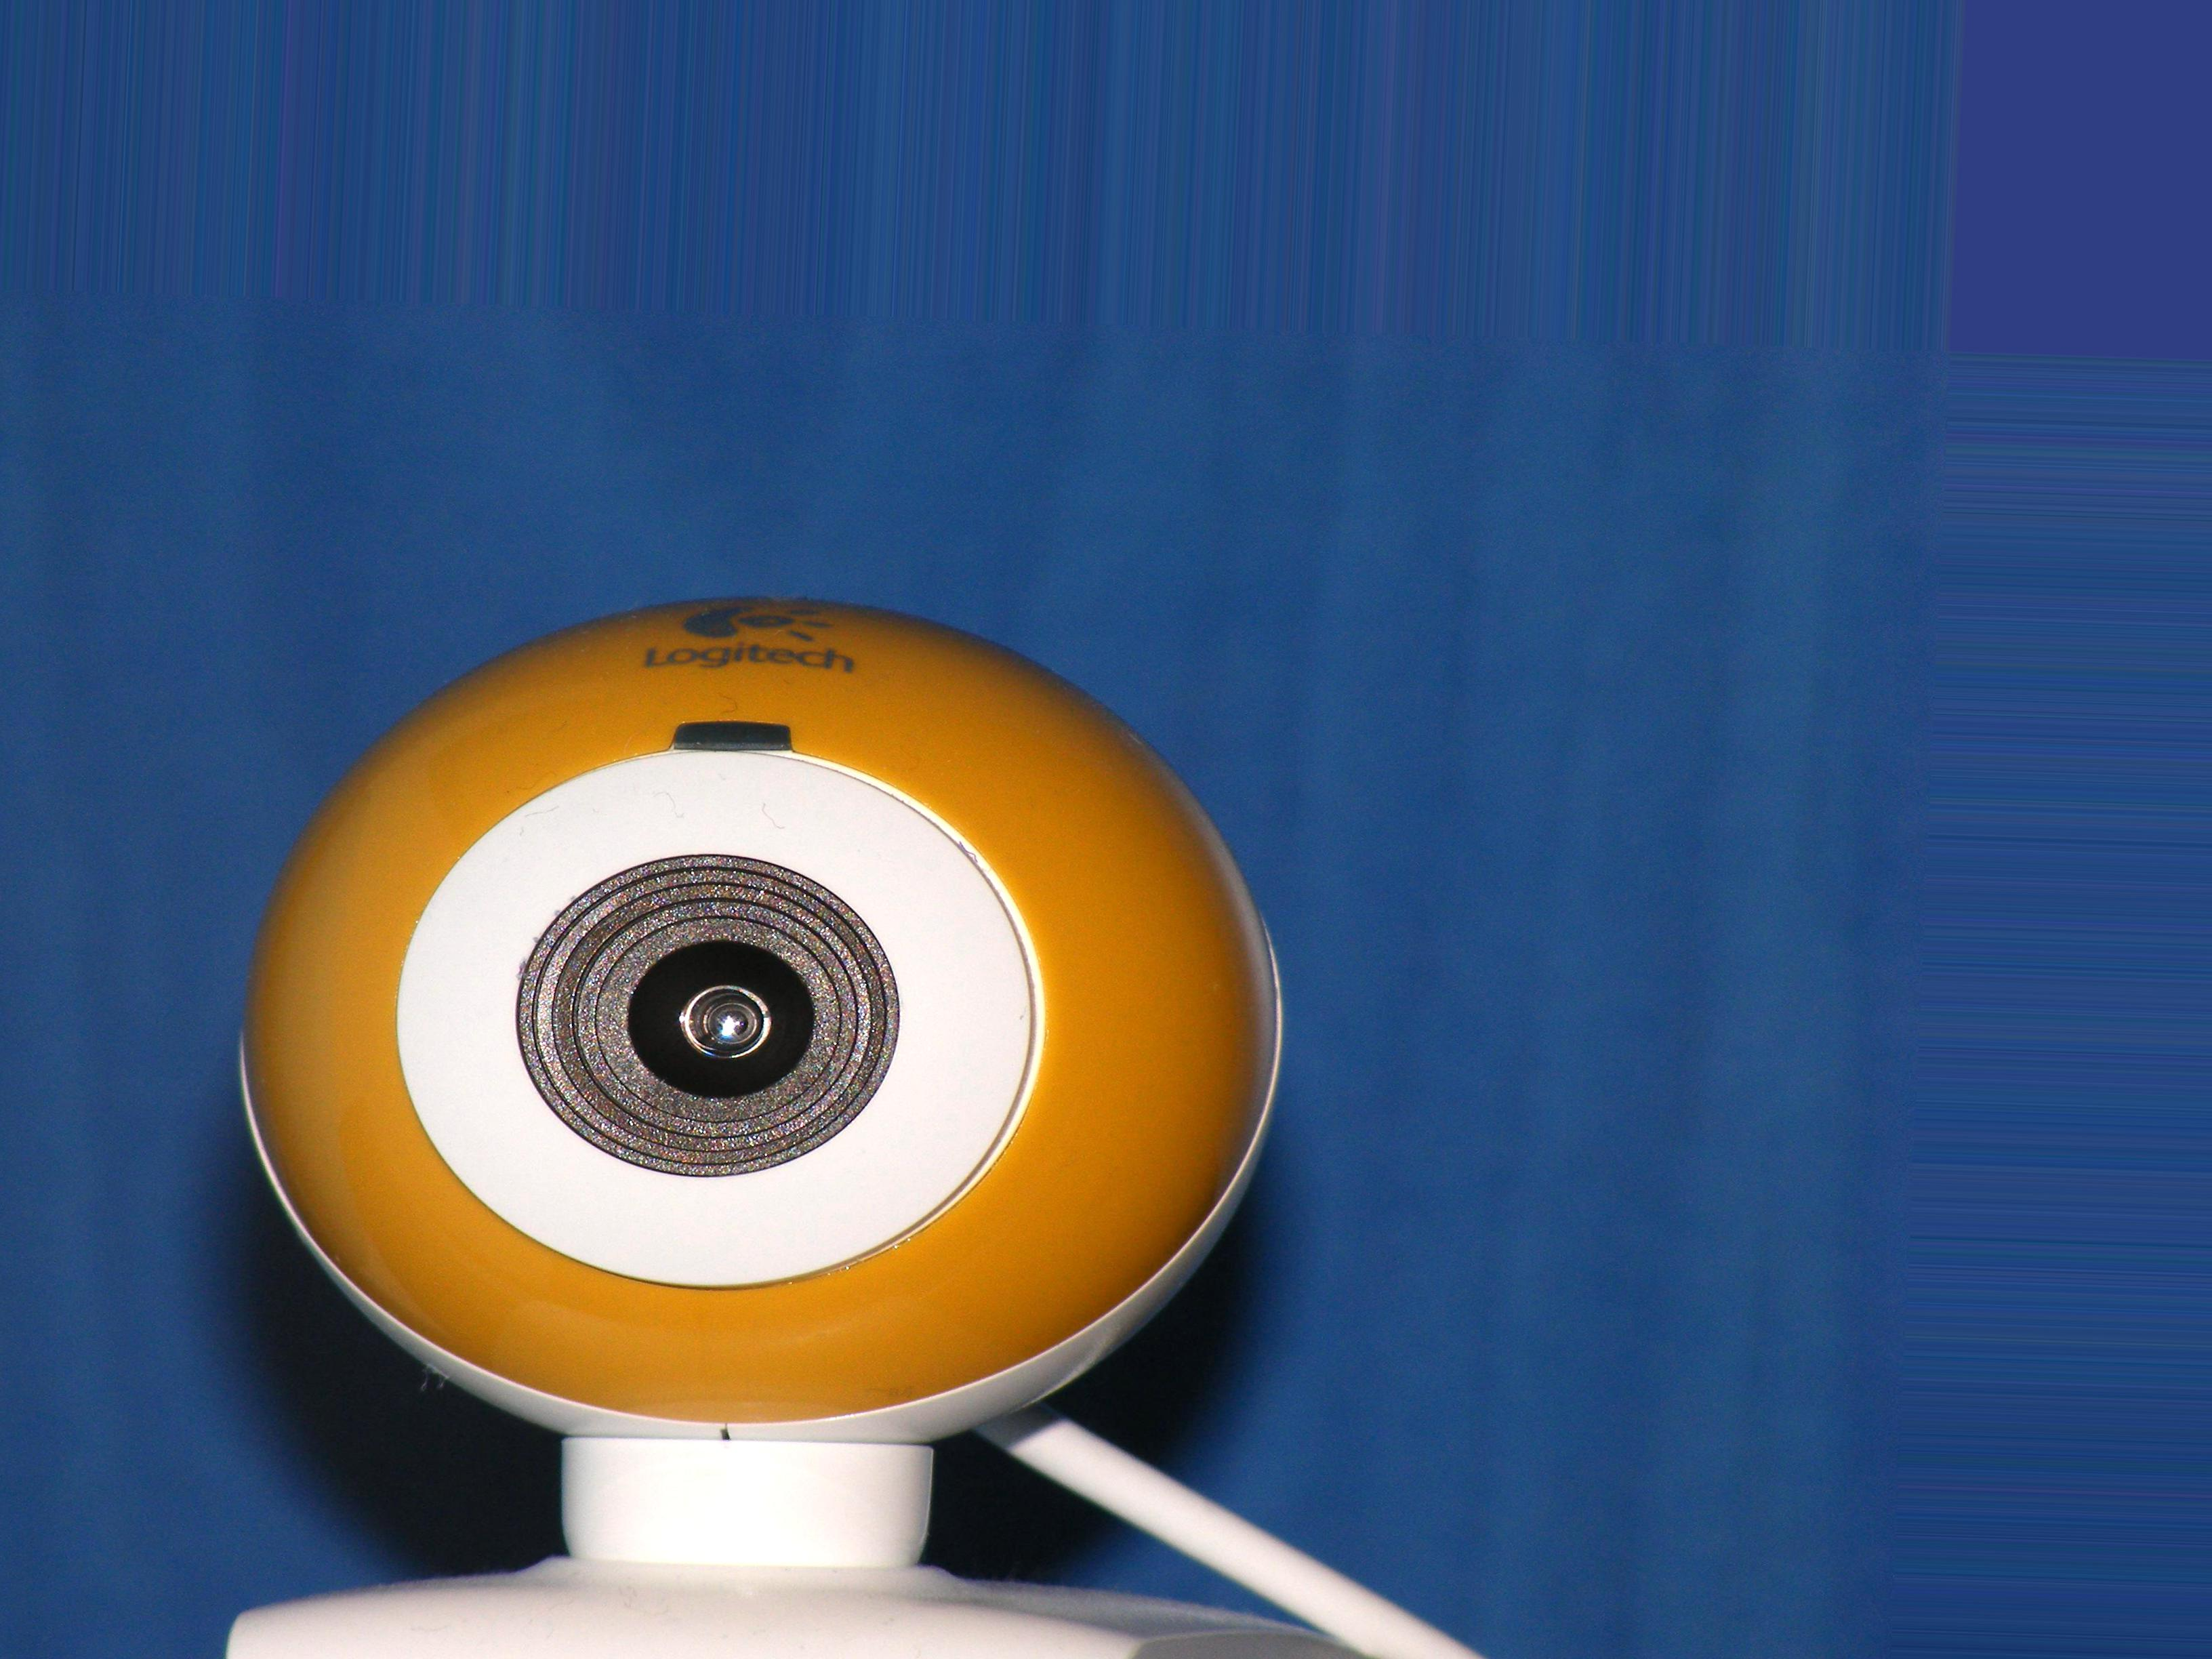webcam: (207, 586, 1339, 1481)
